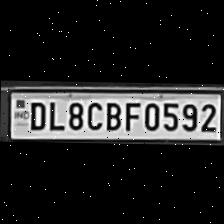0: (140, 98, 160, 129)
2: (197, 99, 217, 130)
5: (158, 97, 178, 130)
8: (64, 98, 84, 129)
9: (178, 99, 198, 130)
B: (102, 97, 122, 129)
C: (84, 97, 103, 128)
D: (25, 98, 47, 129)
F: (120, 98, 140, 130)
L: (46, 97, 64, 129)
